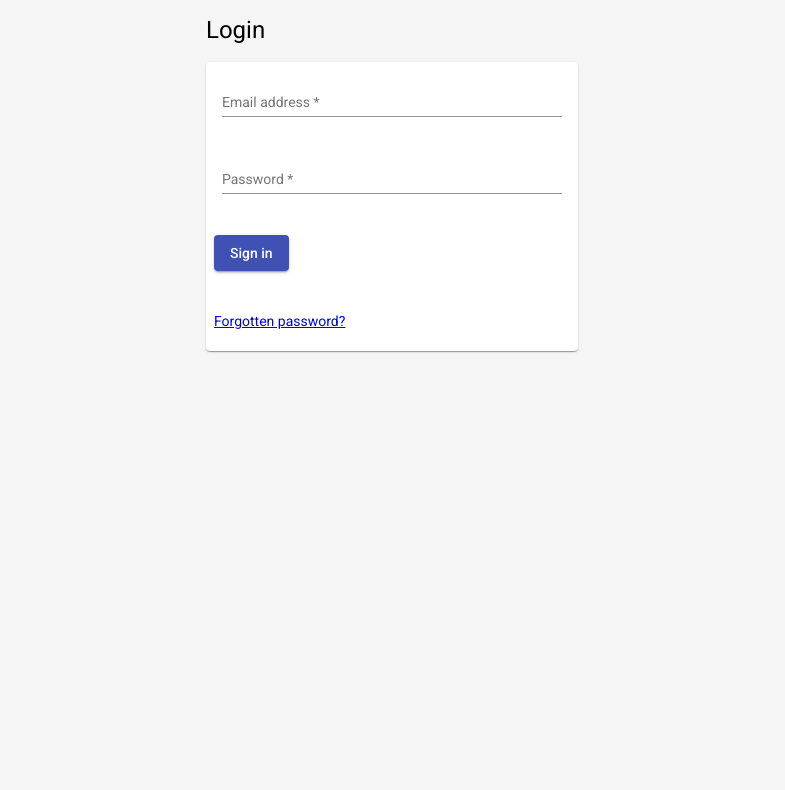
Test case: /Home › As a user, I should be able to add new tasks
Type "test@carelinelive.com" into the field with test id "Email" at x=392, y=103, box [222,95,562,111]
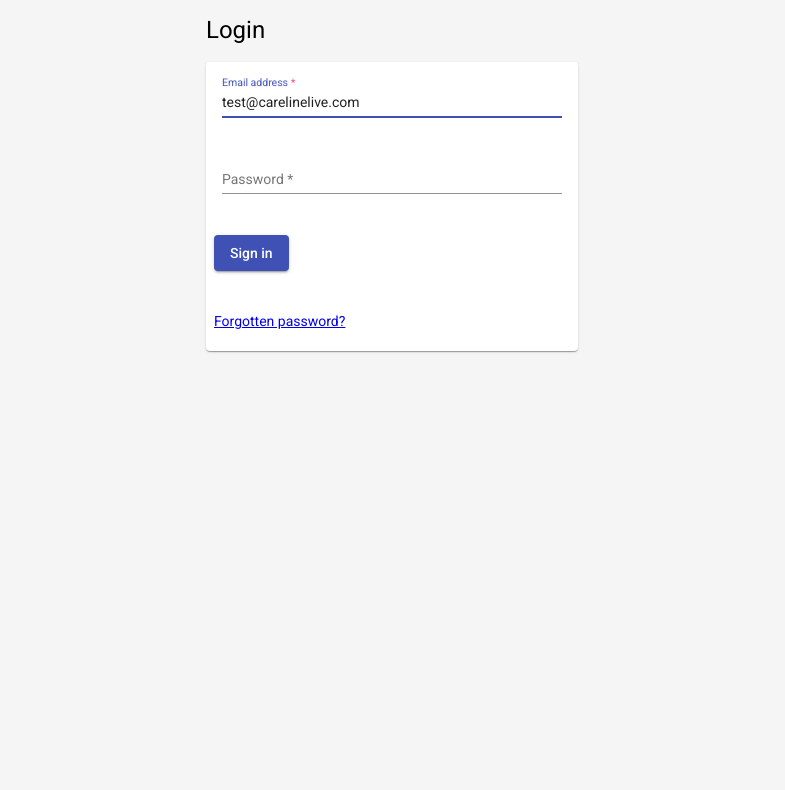
Type "password" into the password field with test id "Password" at x=392, y=180, box [222,172,562,188]
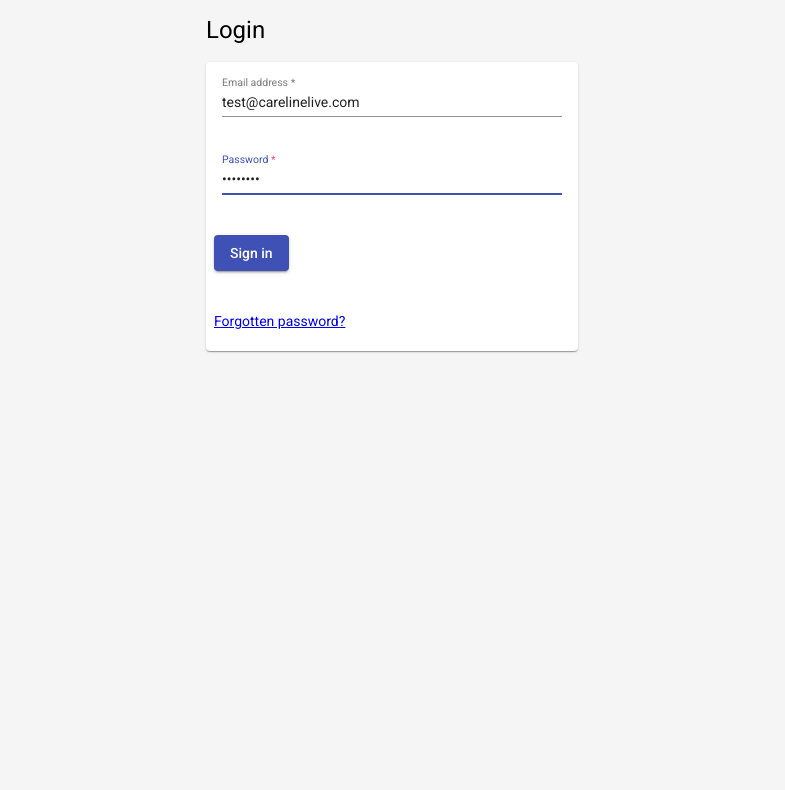
Click the button with test id "Submit" at x=252, y=253, box [214,235,289,271]
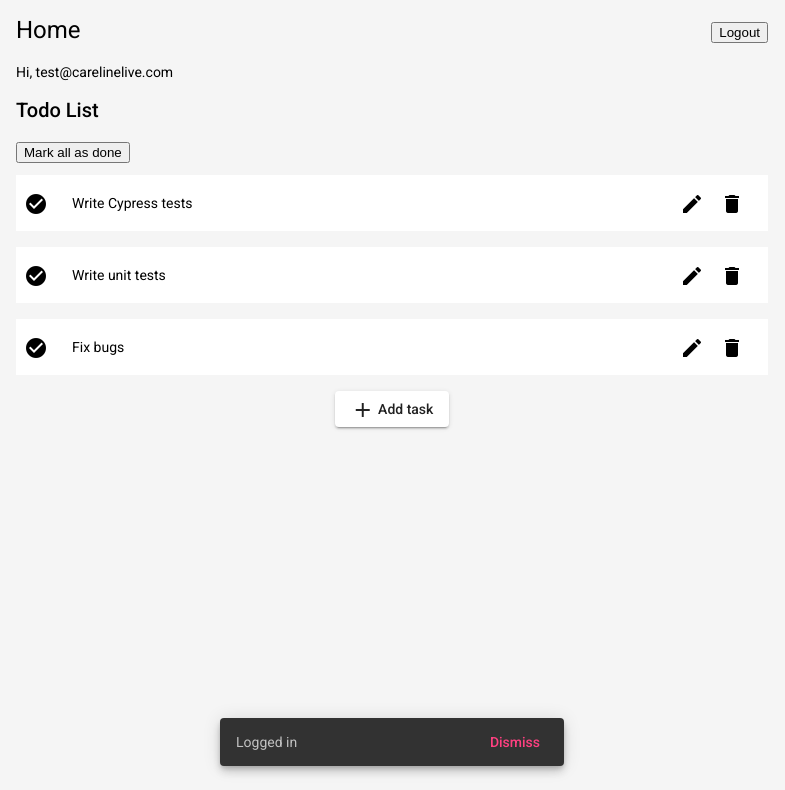
Now the header with test id "Home" is shown, box [16,16,768,44]
Click the button with test id "AddTaskButton" at x=393, y=409, box [335,391,450,427]
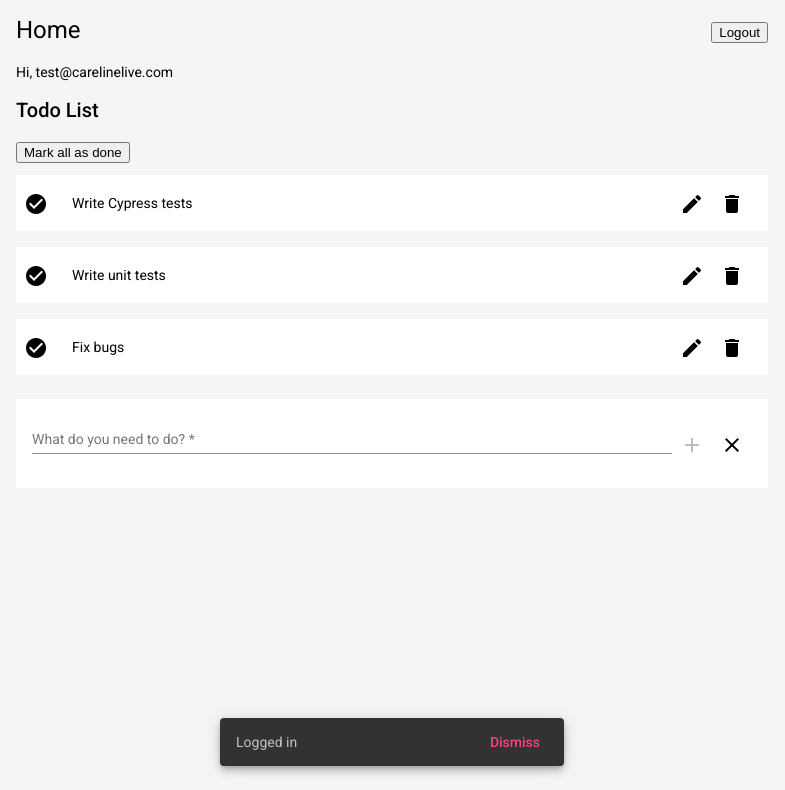
Now the field with test id "AddTaskInput" is shown
Type "AddTaskVerification" into the field with test id "AddTaskInput" at x=352, y=440, box [32,432,672,448]
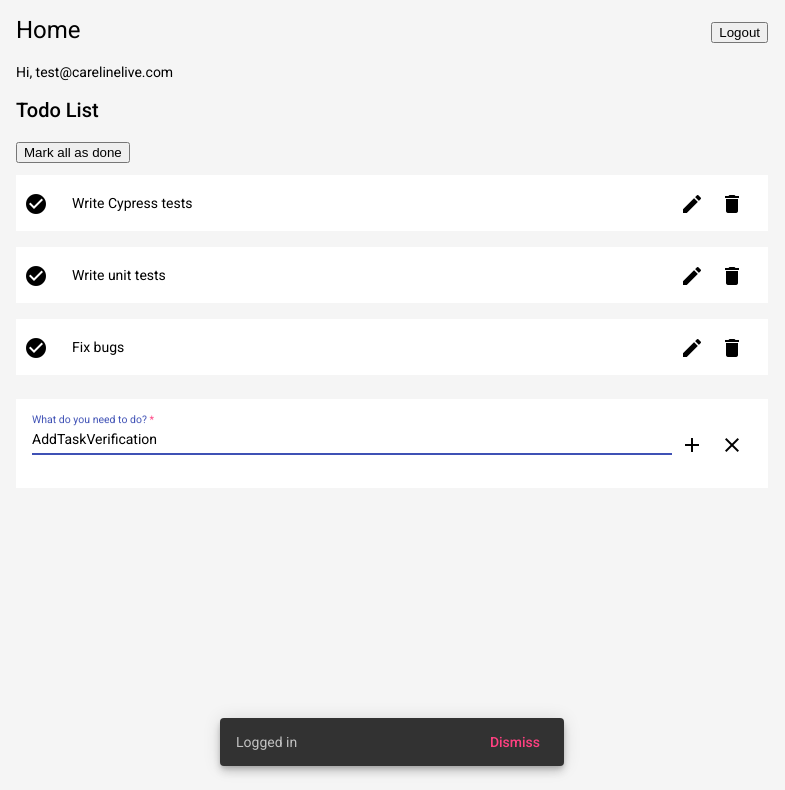
Click the button with test id "SubmitAddTask" at x=692, y=443, box [672,423,712,463]
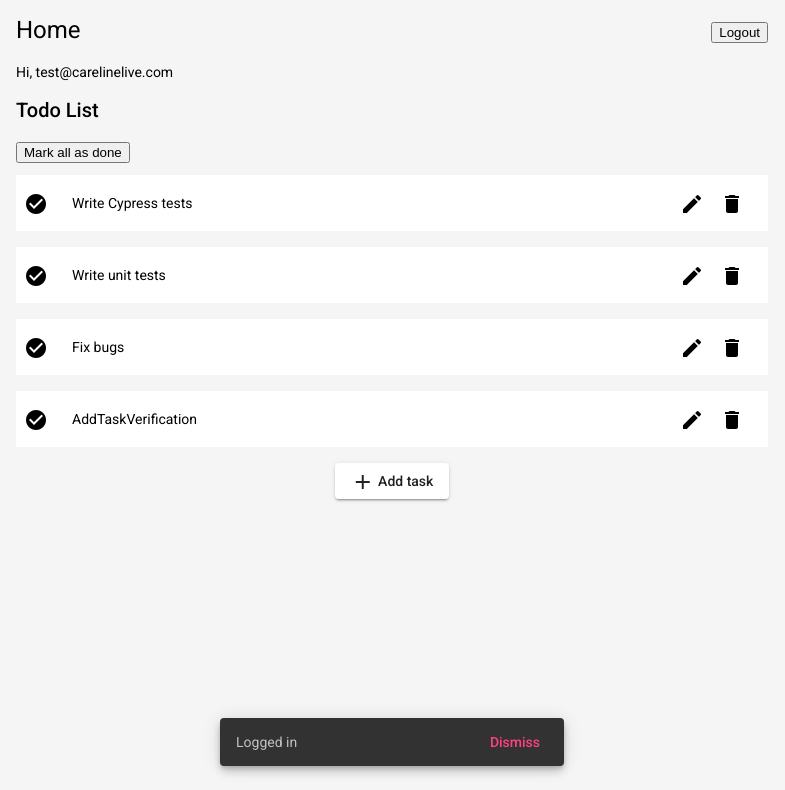
Now the text "AddTaskVerification" is shown, box [72,411,197,427]
